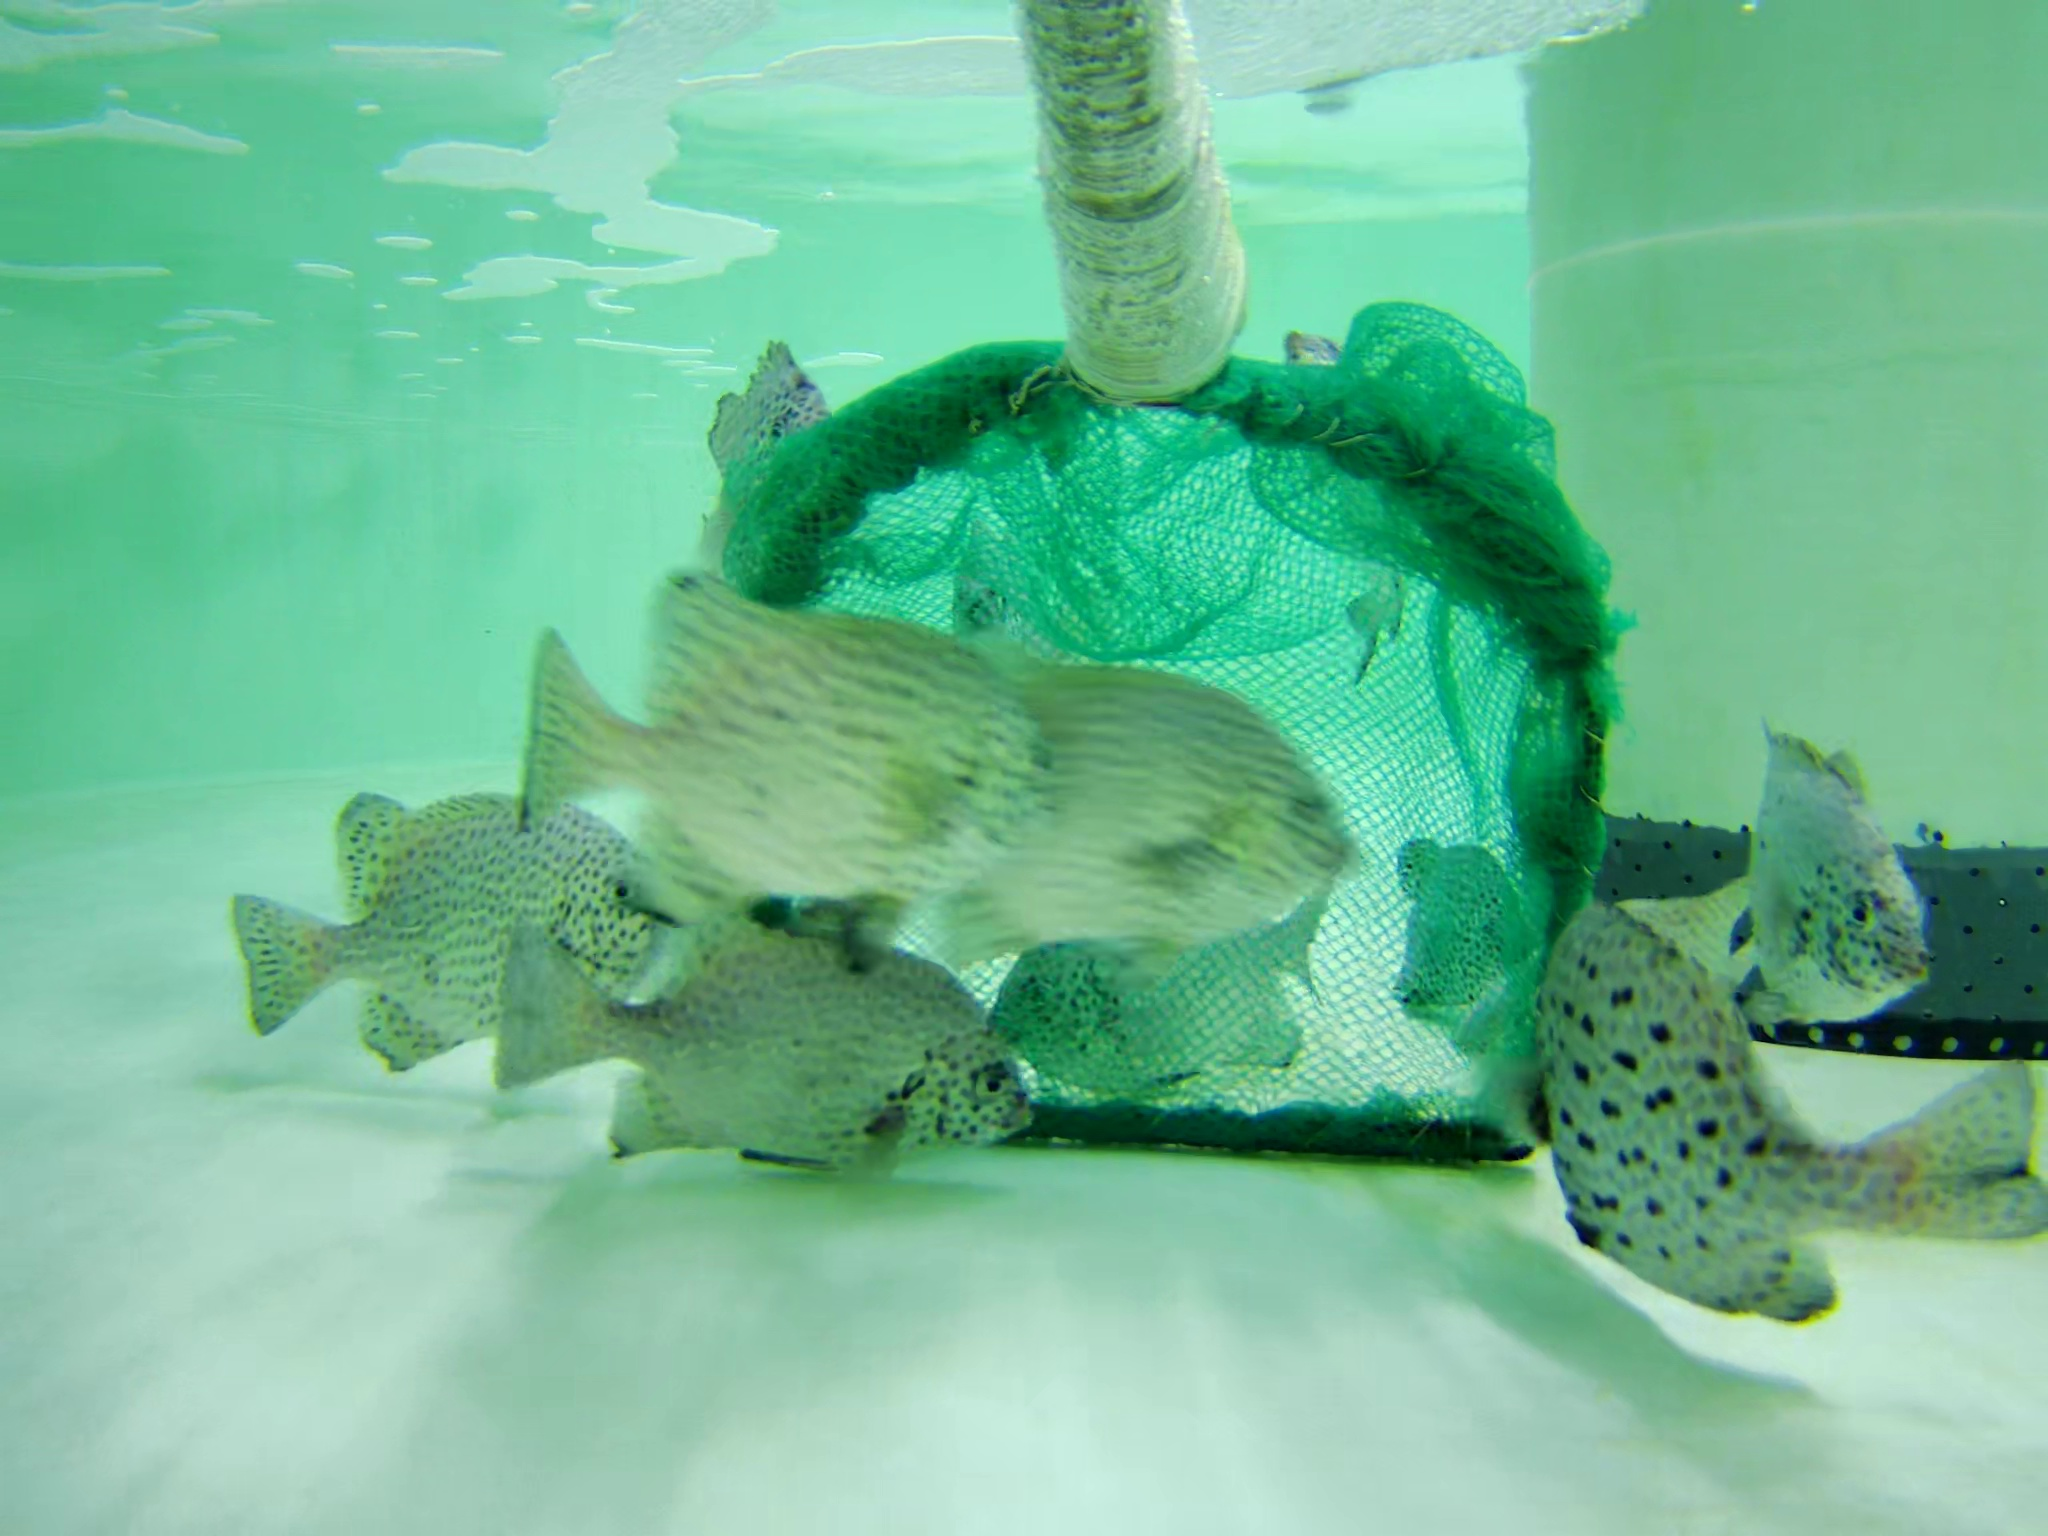fish: (1519, 912, 2048, 1313), (510, 587, 1034, 952), (498, 902, 1048, 1181), (234, 786, 721, 1087), (903, 639, 1335, 931), (959, 925, 1338, 1107), (1737, 728, 1948, 1042), (703, 342, 872, 589), (1397, 823, 1540, 1037), (951, 523, 1024, 671), (1338, 563, 1421, 668)
